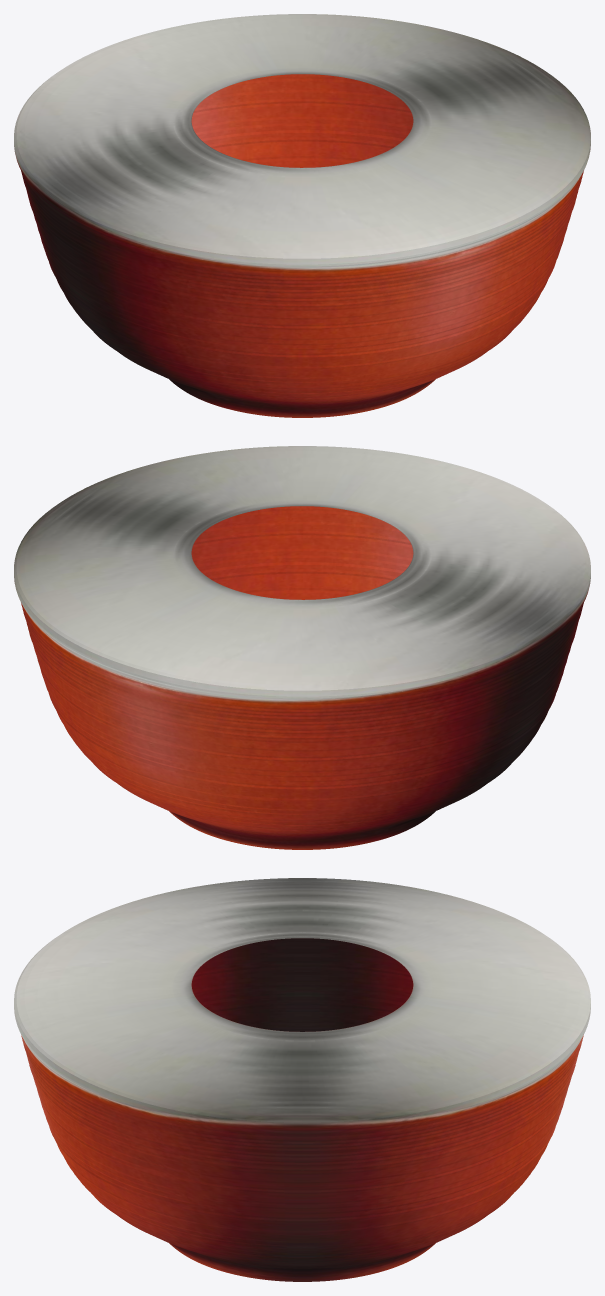
The model's file is cma-111793.glb.
3 renders of one model, top to bottom at view 1: azimuth 30°, elevation 25°; view 2: azimuth 150°, elevation 25°; view 3: azimuth 270°, elevation 25°, orthographic.
Parts seen in each view (by area): view 1: geometry_0; view 2: geometry_0; view 3: geometry_0.
Boxes of the visible parts, <box> form: geometry_0: <box>14,14,590,417</box>; geometry_0: <box>14,446,590,849</box>; geometry_0: <box>14,878,590,1281</box>.
Size of the model in its own units: 62.51 by 30 by 62.51.
1 material, 1 textured.
